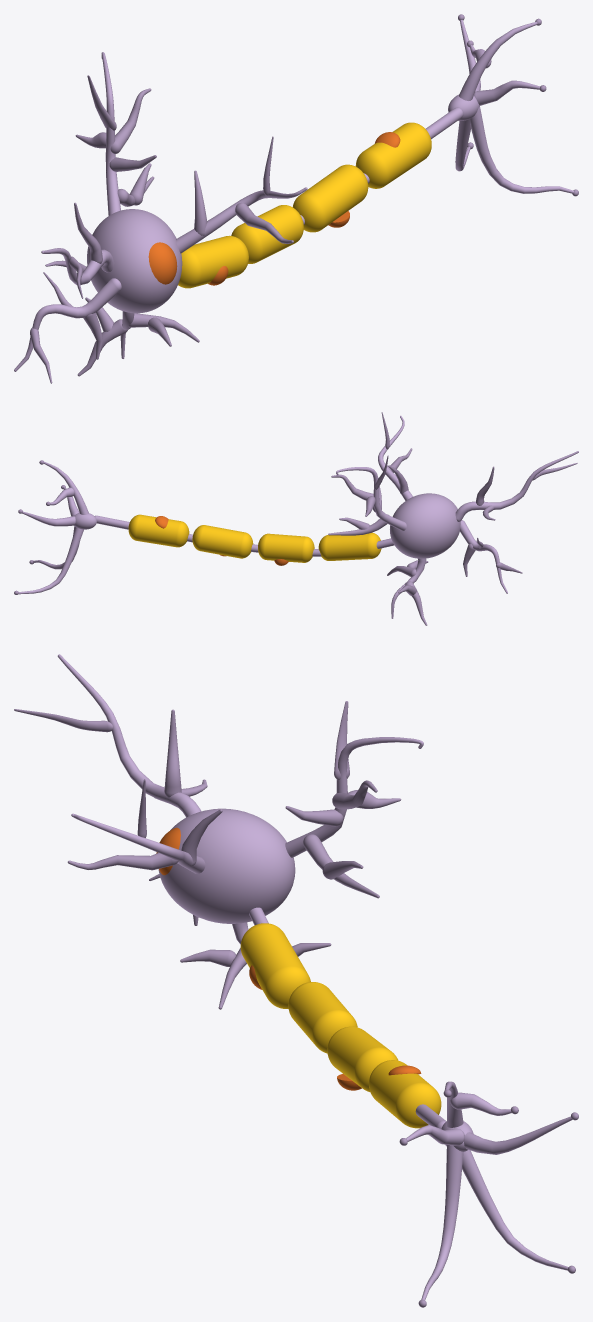
The model's file is neuron.glb.
3 views of the same model, one above another, from view 1: azimuth 30°, elevation 25°; view 2: azimuth 150°, elevation 25°; view 3: azimuth 270°, elevation 25° (orthographic). The views are drawn at different scales.
Visible parts, largest first — view 1: node_id199_52_50, node_id193_59_88, node_id303_50_4, node_id267_55_24, node_id282_49_17, node_id250_56_33, node_id184_61_94, node_id185_63_100, node_id189_58_85, node_id191_54_82, node_id223_53_45, node_id186_69_118 (+6 smaller); view 2: node_id199_52_50, node_id193_59_88, node_id303_50_4, node_id190_62_97, node_id250_56_33, node_id191_54_82, node_id267_55_24, node_id180_64_103, node_id182_51_79, node_id184_61_94, node_id282_49_17, node_id189_58_85 (+5 smaller); view 3: node_id199_52_50, node_id193_59_88, node_id250_56_33, node_id282_49_17, node_id190_62_97, node_id303_50_4, node_id185_63_100, node_id180_64_103, node_id191_54_82, node_id267_55_24, node_id189_58_85, node_id183_65_106 (+1 smaller).
Boxes of the visible parts, bbox=[...] form: node_id199_52_50: bbox=[178, 14, 578, 288]; node_id193_59_88: bbox=[87, 209, 182, 313]; node_id303_50_4: bbox=[30, 202, 102, 383]; node_id267_55_24: bbox=[77, 297, 199, 376]; node_id282_49_17: bbox=[194, 136, 293, 243]; node_id250_56_33: bbox=[75, 132, 156, 206]; node_id184_61_94: bbox=[14, 278, 121, 371]; node_id185_63_100: bbox=[470, 106, 573, 193]; node_id189_58_85: bbox=[176, 187, 307, 253]; node_id191_54_82: bbox=[101, 52, 120, 215]; node_id223_53_45: bbox=[87, 75, 151, 153]; node_id186_69_118: bbox=[459, 22, 537, 100]; node_id199_52_50: bbox=[14, 460, 381, 594]; node_id193_59_88: bbox=[390, 493, 460, 558]; node_id303_50_4: bbox=[463, 463, 577, 576]; node_id190_62_97: bbox=[455, 451, 578, 521]; node_id250_56_33: bbox=[328, 486, 388, 535]; node_id191_54_82: bbox=[336, 467, 406, 530]; node_id267_55_24: bbox=[387, 560, 428, 625]; node_id180_64_103: bbox=[18, 527, 83, 594]; node_id182_51_79: bbox=[95, 515, 394, 556]; node_id184_61_94: bbox=[460, 520, 507, 593]; node_id282_49_17: bbox=[381, 412, 412, 494]; node_id189_58_85: bbox=[378, 415, 412, 500]; node_id199_52_50: bbox=[240, 923, 578, 1307]; node_id193_59_88: bbox=[158, 808, 295, 923]; node_id250_56_33: bbox=[285, 790, 401, 898]; node_id282_49_17: bbox=[67, 779, 222, 870]; node_id190_62_97: bbox=[57, 654, 201, 817]; node_id303_50_4: bbox=[14, 709, 207, 925]; node_id185_63_100: bbox=[421, 1145, 463, 1300]; node_id180_64_103: bbox=[462, 1150, 568, 1270]; node_id191_54_82: bbox=[285, 737, 423, 857]; node_id267_55_24: bbox=[180, 943, 331, 1009]; node_id189_58_85: bbox=[71, 813, 205, 873]; node_id183_65_106: bbox=[464, 1116, 572, 1154].
Bounding box in the file's own units: 4.1 × 1.55 × 2.51.
Materials: 40 (40 with a texture image).
